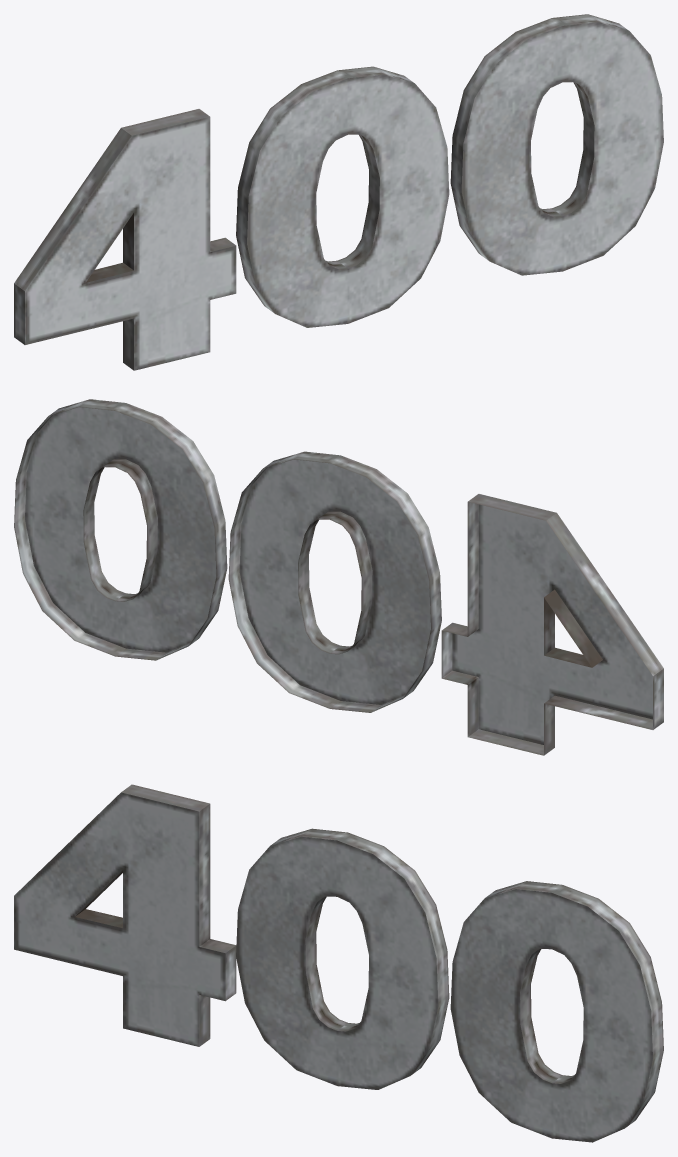
Rendered from categorySign400.FBX.
The picture shows the model from 3 angles, top to bottom: view 1: azimuth 30°, elevation 25°; view 2: azimuth 150°, elevation 25°; view 3: azimuth 330°, elevation 25°; orthographic projection.
Visible parts, largest first — view 1: SM_CategorySign400; view 2: SM_CategorySign400; view 3: SM_CategorySign400.
Part boxes in pixels (bbox=[...]): SM_CategorySign400: bbox=[14, 14, 663, 370]; SM_CategorySign400: bbox=[14, 399, 663, 755]; SM_CategorySign400: bbox=[14, 784, 663, 1142].
Bounding box in the file's own units: 6.76 × 2.48 × 0.2.
Materials: 1 (1 with a texture image).
